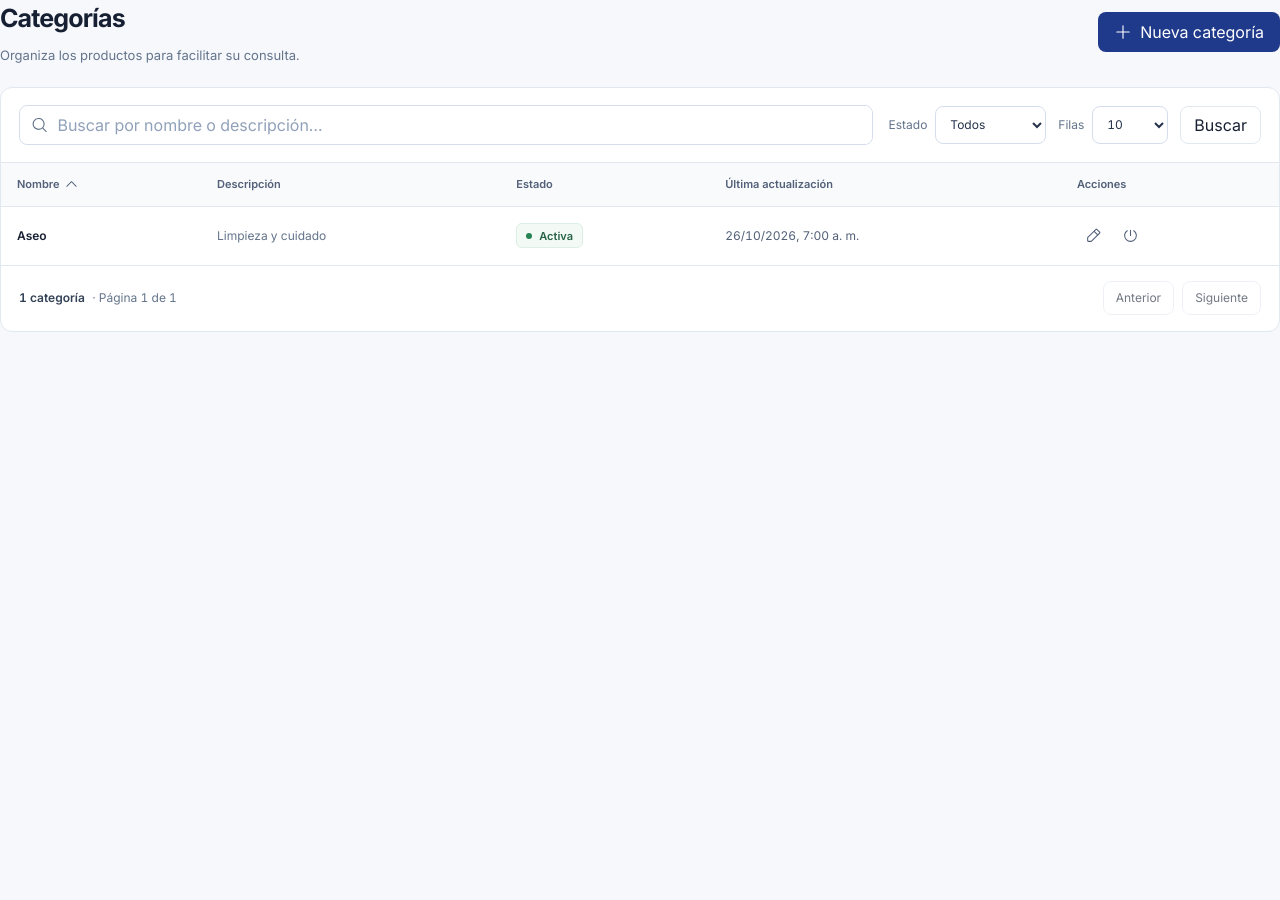
Scenario: CategoriesPage › shows duplicate-name errors beside the category name field
expect the row "Aseo Limpieza y cuidado Activa 26/10/2026, 7:00 a. m." is shown: met, box 1,207 -> 1279,265
Click the button "Nueva categoría" at {"x": 1189, "y": 32}, box 1098,12 -> 1279,52
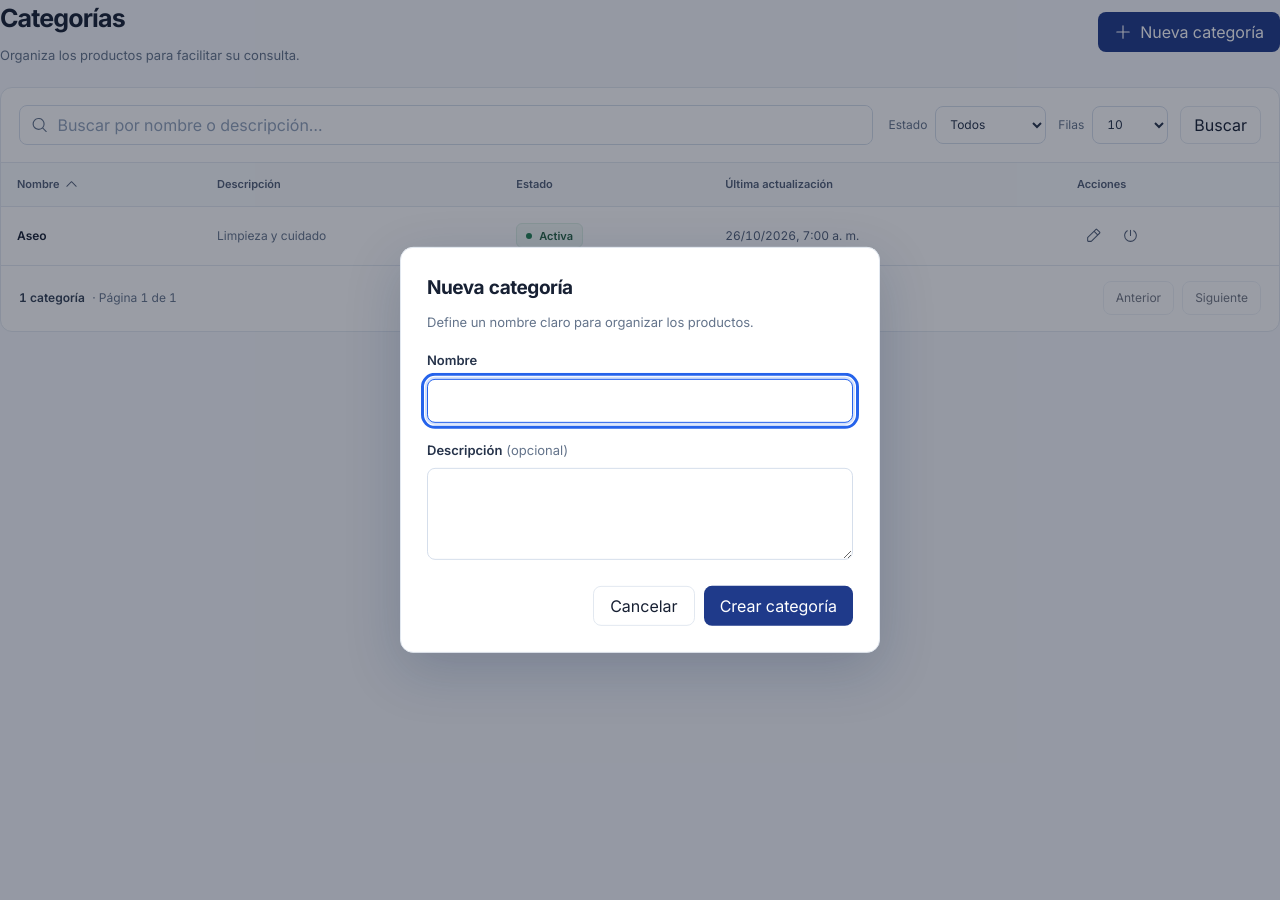
Type "Aseo" into the field labelled "Nombre" at {"x": 640, "y": 401}, box 427,379 -> 853,423
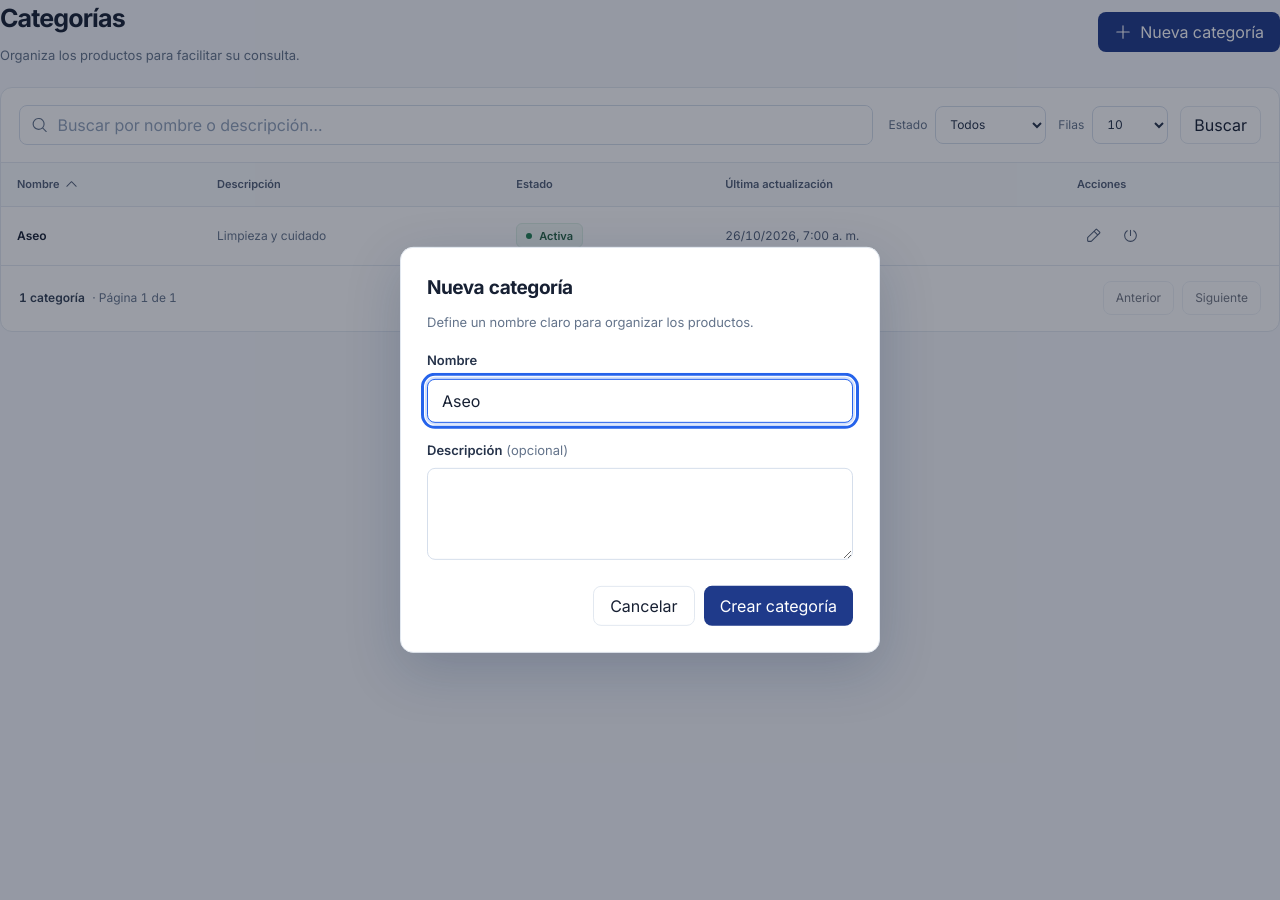
Click the button "Crear categoría" at {"x": 778, "y": 606}, box 704,586 -> 853,626
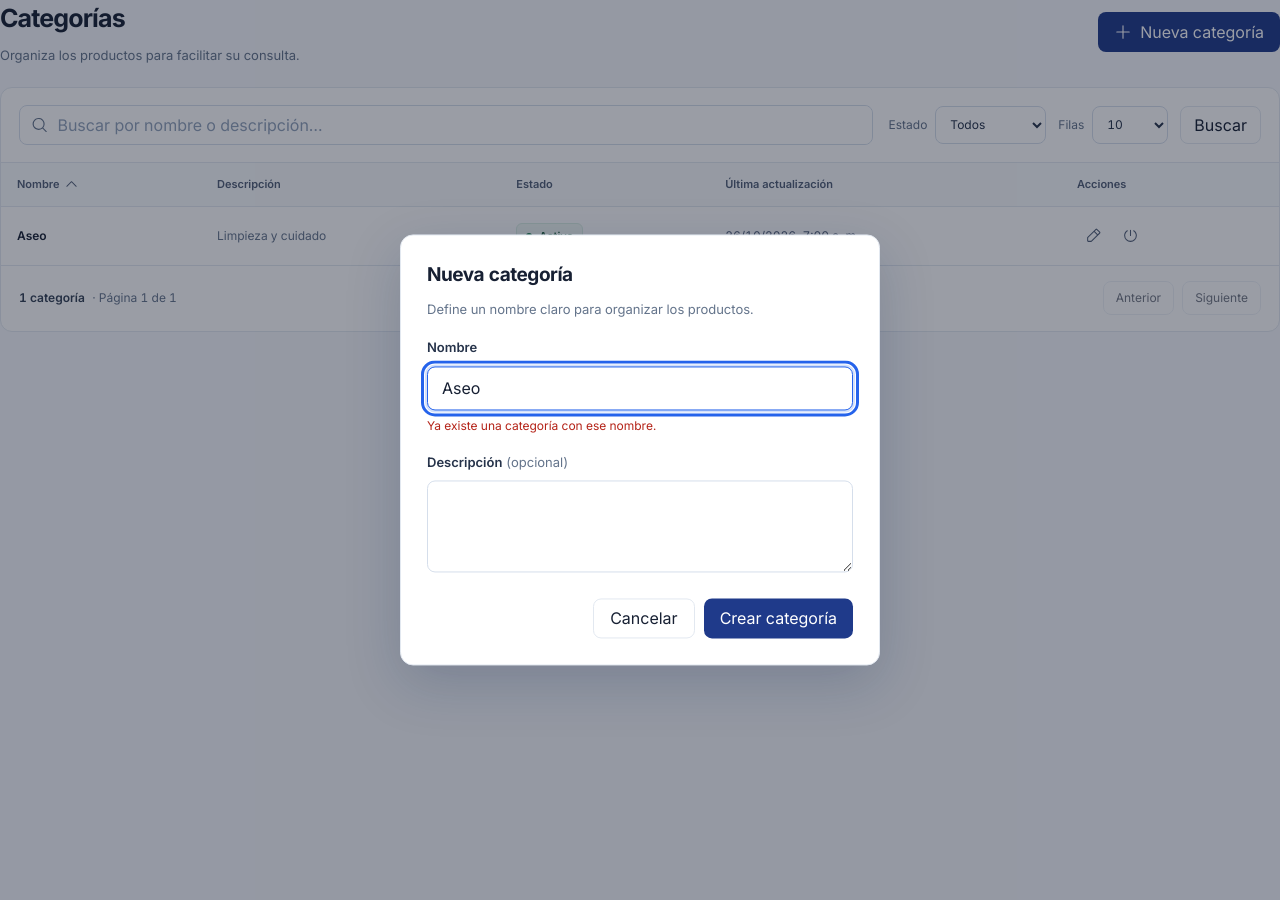
expect the text "Ya existe una categoría con ese nombre." is shown: met, box 427,418 -> 656,433
